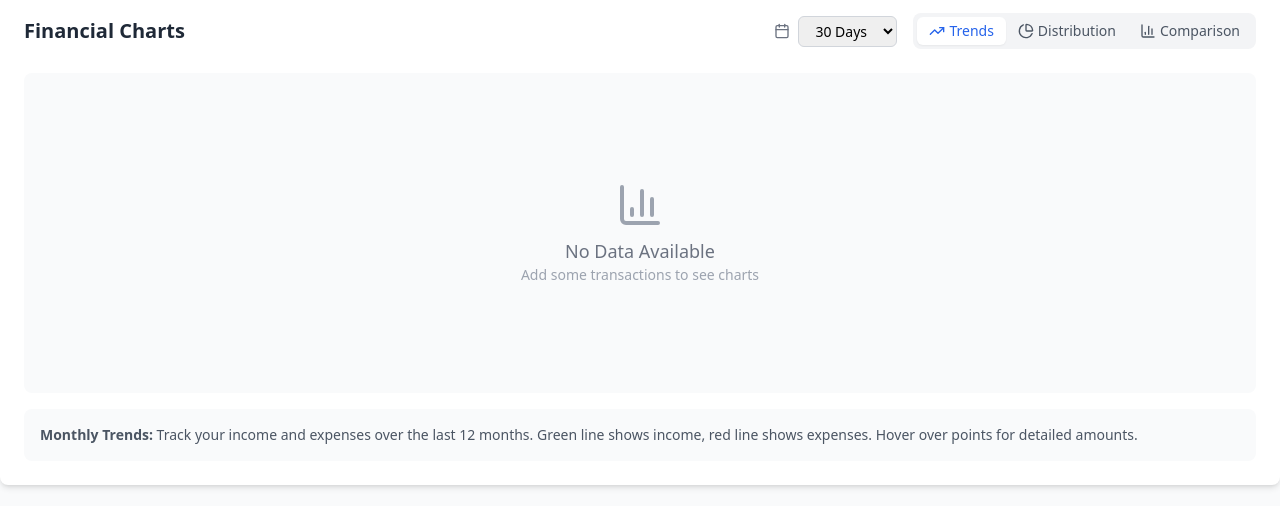
ChartsSection › should switch to pie chart when Distribution button is clicked
What coordinates should you click on to do the following:
click the button "Distribution"
I would click on:
 (1067, 31)
Its box is left=1006, top=17, right=1128, bottom=45.
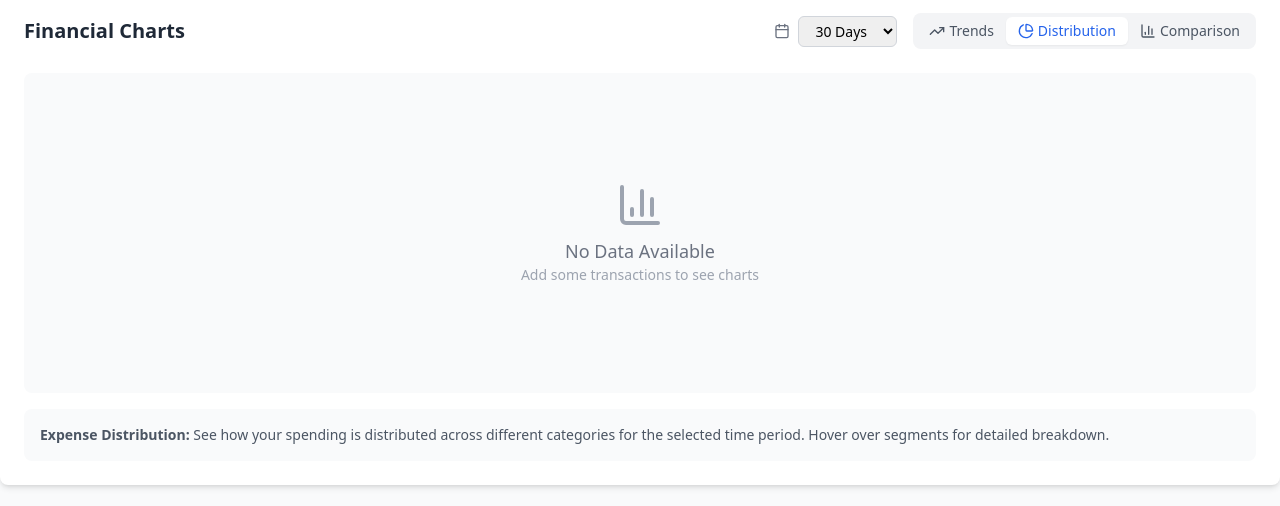
Check: the text "No Data Available" is shown, box left=565, top=239, right=715, bottom=263
Check: the text "Expense Distribution:" is shown, box left=40, top=425, right=190, bottom=444
